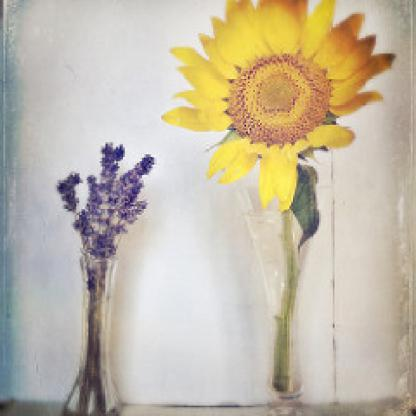SUN FLOWER: (138, 5, 408, 225)
